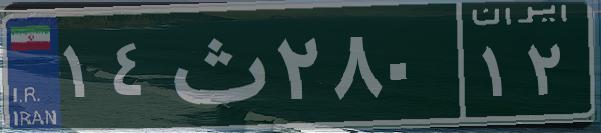0: (385, 28, 445, 110)
1: (57, 26, 110, 107), (475, 38, 525, 113)
2: (273, 28, 330, 110), (525, 38, 570, 115)
4: (110, 28, 158, 105)
8: (330, 28, 385, 110)
ث: (158, 15, 273, 115)
